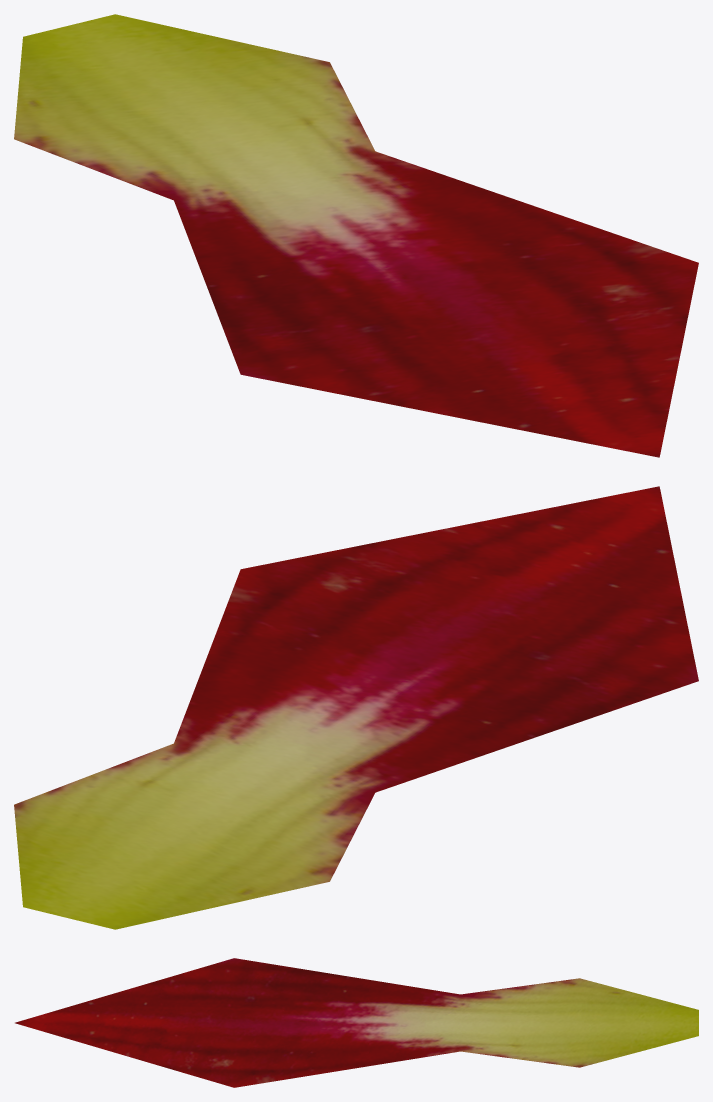
Rendered from petals_v001.glb.
The picture shows the model from 3 angles, top to bottom: view 1: azimuth 30°, elevation 25°; view 2: azimuth 150°, elevation 25°; view 3: azimuth 270°, elevation 25°; orthographic projection. The views are drawn at different scales.
Parts seen in each view (by area): view 1: petal; view 2: petal; view 3: petal.
Part boxes in pixels (x1=…): petal: x1=14, y1=14, x2=698, y2=457; petal: x1=14, y1=486, x2=698, y2=929; petal: x1=15, y1=958, x2=698, y2=1087.
Size of the model in its own units: 0.924 by 0 by 2.06.
Materials: 1 (1 with a texture image).
